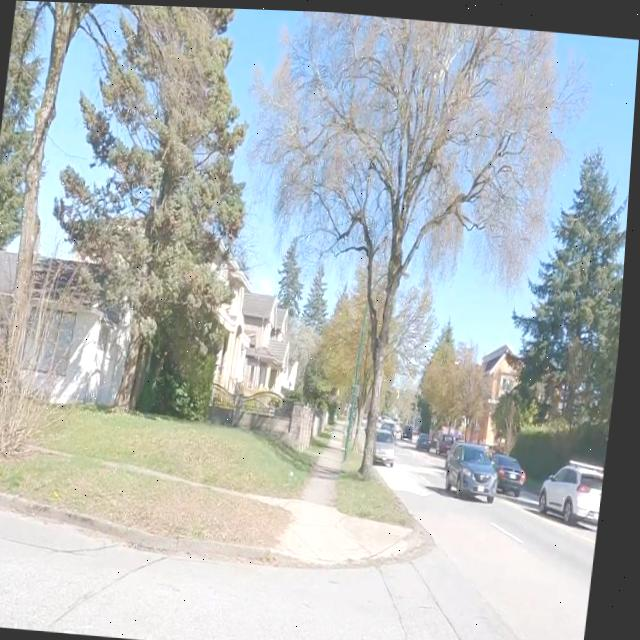Automobile: (544, 459, 609, 521), (452, 439, 503, 499), (499, 449, 532, 492), (380, 426, 401, 463), (422, 429, 434, 448)
Road: (0, 445, 603, 640)
Sidewalk: (219, 486, 427, 563), (308, 416, 350, 503), (310, 474, 342, 494), (326, 434, 344, 464)
